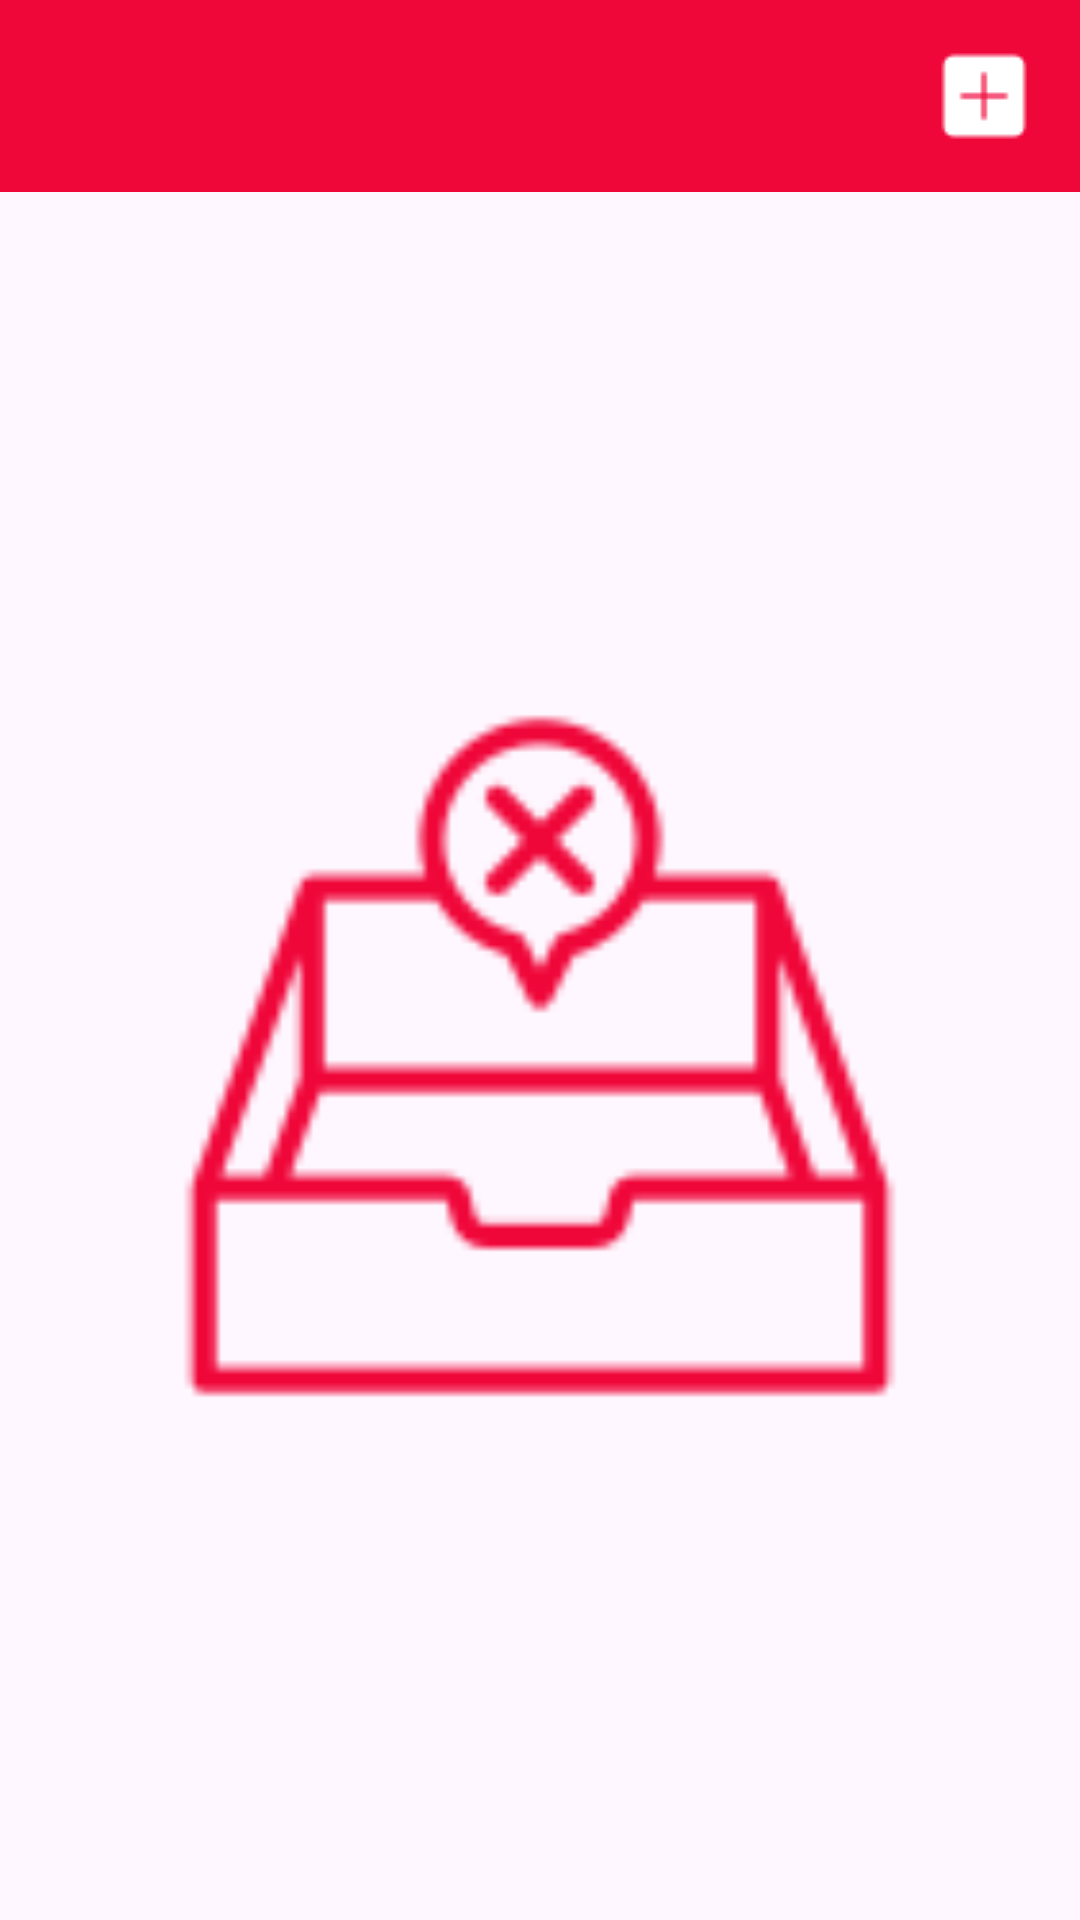

Icons on this 1080w x 1920h Android screen, each with the point to tap as [x,y]:
add: [984,96]
